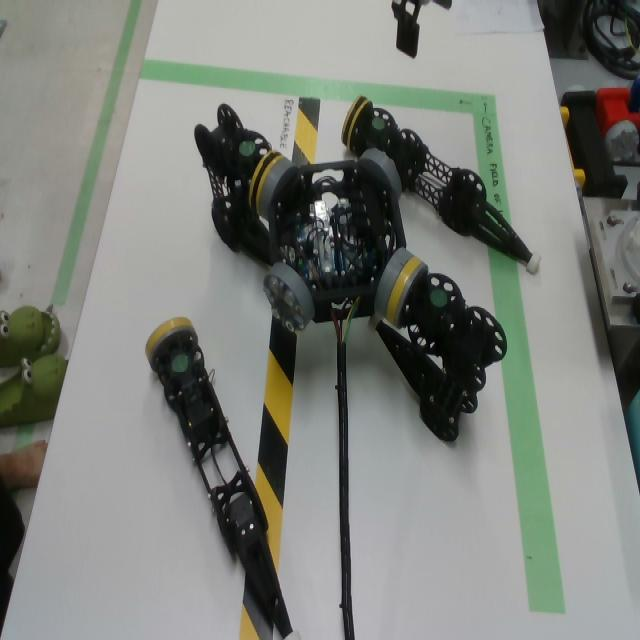body: (268, 161, 407, 324)
body_connector: (262, 263, 315, 332), (374, 248, 414, 316), (258, 159, 298, 220), (358, 148, 403, 200)
leg: (144, 317, 301, 640), (341, 95, 542, 273), (368, 256, 507, 443), (194, 103, 285, 265)
leg_connector: (386, 257, 428, 328), (249, 149, 285, 216), (145, 317, 197, 363), (341, 96, 372, 151)
leg_marker: (430, 288, 447, 307), (172, 353, 188, 372), (239, 141, 255, 156), (372, 119, 385, 129)
